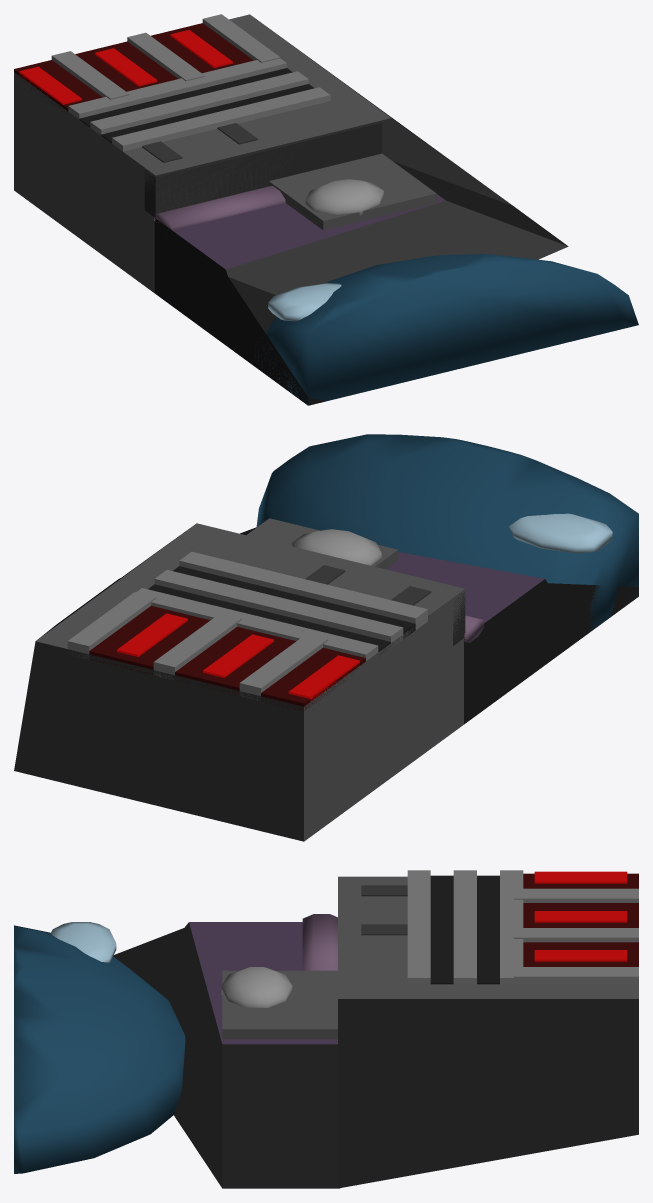
The model's file is newshb-4.glb.
The picture shows the model from 3 angles, top to bottom: view 1: azimuth 30°, elevation 25°; view 2: azimuth 150°, elevation 25°; view 3: azimuth 270°, elevation 25°; orthographic projection. The views are drawn at different scales.
Visible parts, largest first — view 1: newshb-4; view 2: newshb-4; view 3: newshb-4.
Part boxes in pixels (x1,y1,x2,y2): newshb-4: (14, 14, 638, 405); newshb-4: (14, 434, 638, 841); newshb-4: (14, 870, 638, 1188).
Bounding box in the file's own units: 1.58 × 0.53 × 2.25.
